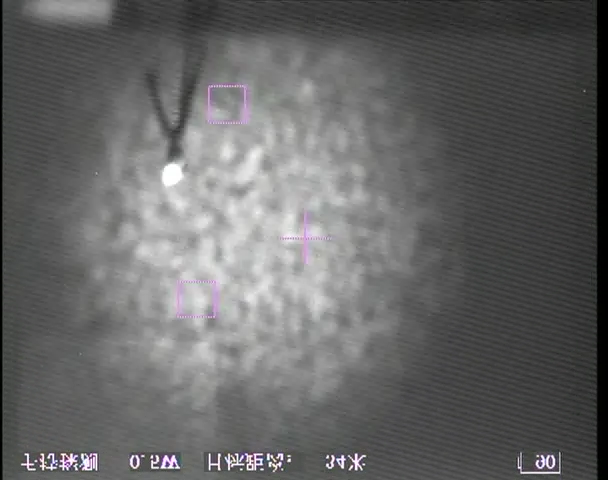my: (159, 161, 185, 189)
